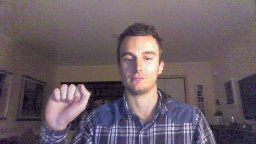Pugno: (42, 82, 91, 129)
